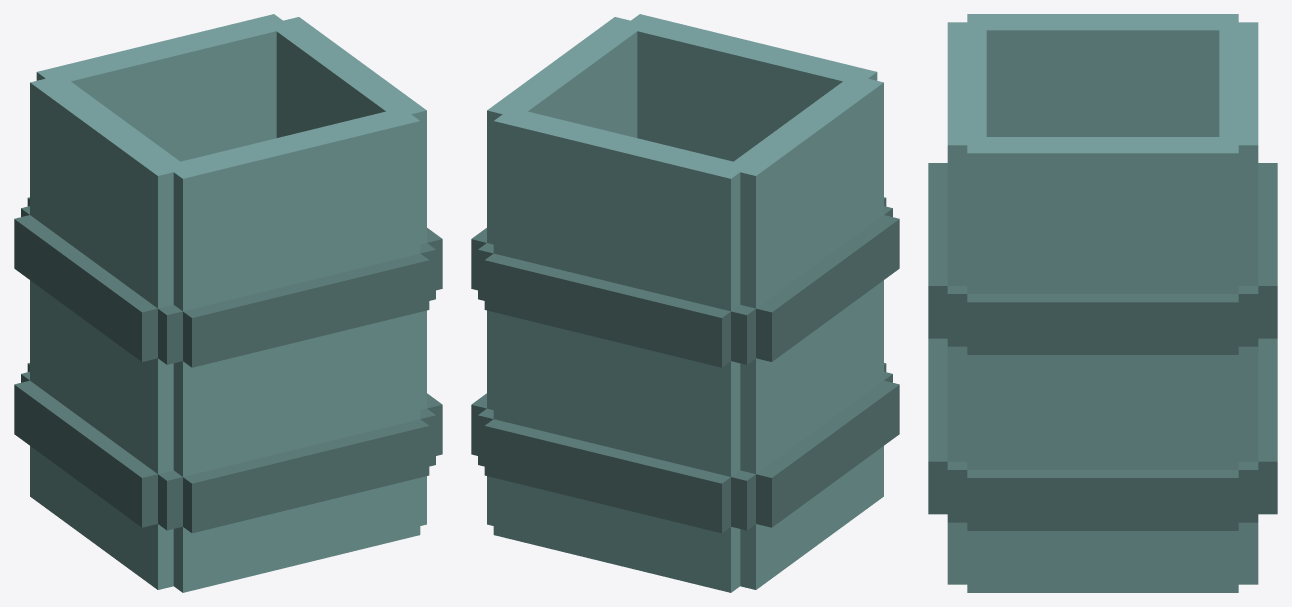
The model's file is hasiok.dae.
3 views of the same model, side by side, from view 1: azimuth 30°, elevation 25°; view 2: azimuth 150°, elevation 25°; view 3: azimuth 270°, elevation 25° (orthographic). The views are drawn at different scales.
Parts seen in each view (by area): view 1: Content; view 2: Content; view 3: Content.
Boxes of the visible parts, x1,y1,x2,y2 form: Content: [14, 14, 442, 592]; Content: [471, 14, 899, 592]; Content: [928, 14, 1277, 592].
Bounding box in the file's own units: 19 × 25 × 18.
1 material, 1 textured.
